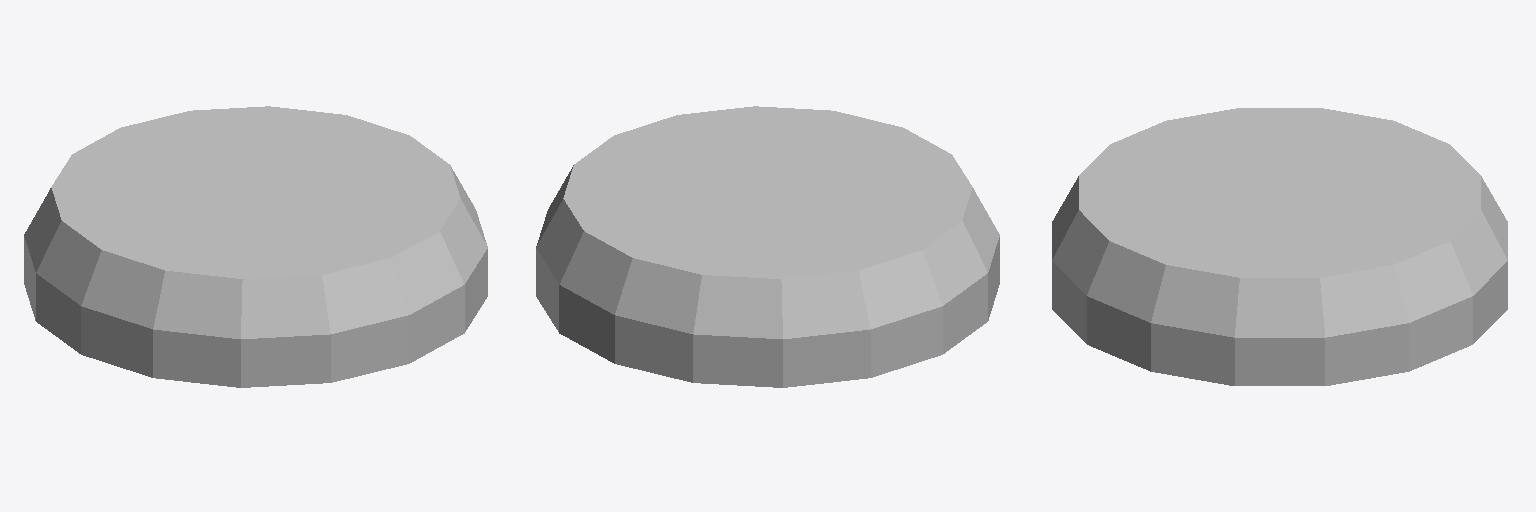
Rendered from libra_lv_engine_s7p5_1_collider.obj.
3 renders of one model, left to right at view 1: azimuth 30°, elevation 25°; view 2: azimuth 150°, elevation 25°; view 3: azimuth 270°, elevation 25°, orthographic.
Parts seen in each view (by area): view 1: collider; view 2: collider; view 3: collider.
Part boxes in pixels (left/top/right/bottom): collider: left=24, top=106, right=487, bottom=387; collider: left=536, top=106, right=999, bottom=387; collider: left=1052, top=108, right=1507, bottom=385.
Bounding box in the file's own units: 10.62 × 3.25 × 10.62.